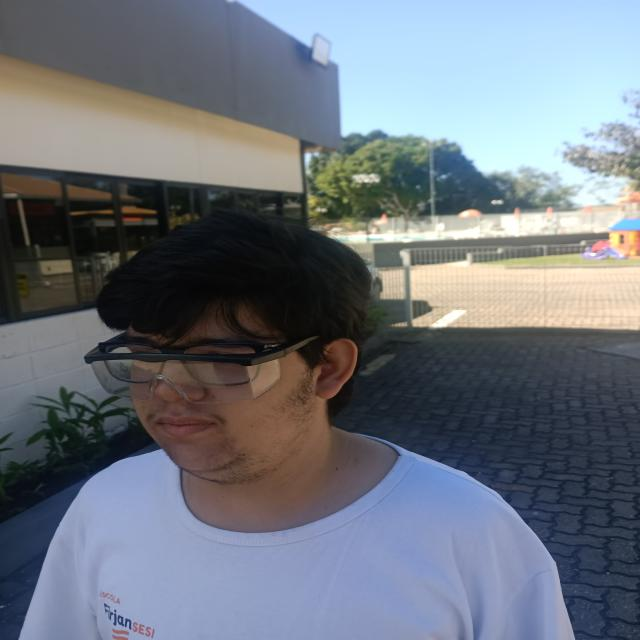oculos-epi: (84, 331, 319, 405)
